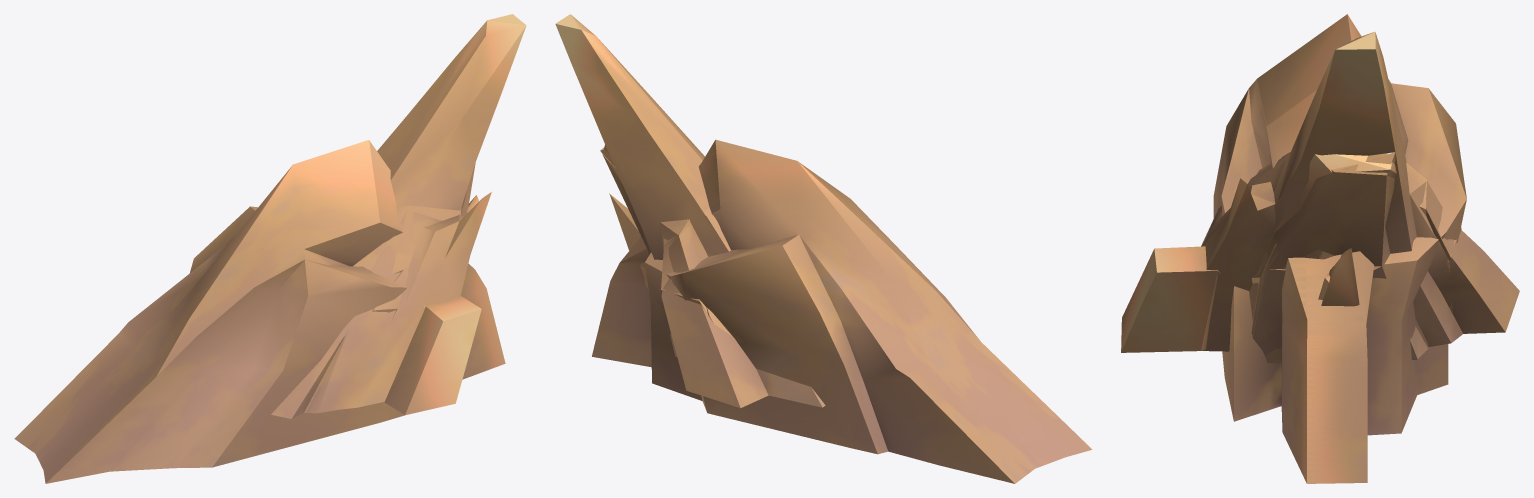
Rendered from Rocks.glb.
3 views of the same model, side by side, from view 1: azimuth 30°, elevation 25°; view 2: azimuth 150°, elevation 25°; view 3: azimuth 270°, elevation 25° (orthographic). The views are drawn at different scales.
Visible parts, largest first — view 1: Rock.001, Rock.004, Rock.003; view 2: Rock.001, Rock.004, Rock.003; view 3: Rock.001, Rock.004, Rock.003, Rock.002.
Part boxes in pixels (x1,y1,x2,y2): Rock.001: (14, 140, 505, 483); Rock.004: (271, 14, 526, 418); Rock.003: (353, 191, 481, 415); Rock.001: (592, 139, 1092, 483); Rock.004: (555, 14, 825, 408); Rock.003: (600, 147, 730, 312); Rock.001: (1213, 14, 1466, 483); Rock.004: (1201, 31, 1519, 359); Rock.003: (1121, 144, 1461, 359); Rock.002: (1251, 243, 1452, 363).
Bounding box in the file's own units: 9.97 × 6.18 × 4.89.
Materials: 1 (1 with a texture image).
